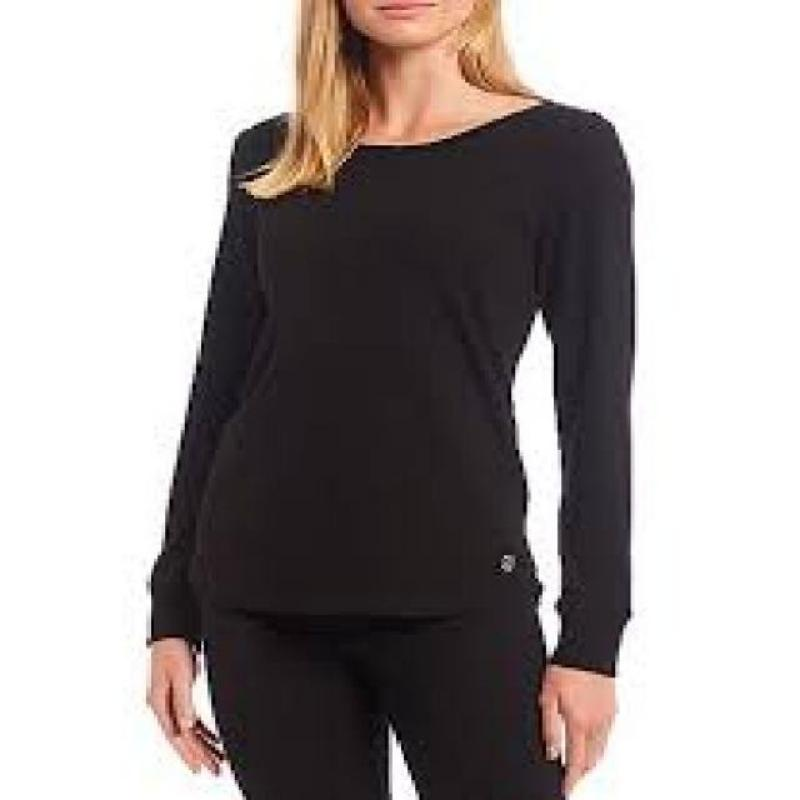long sleeve shirt: (145, 101, 639, 674)
trousers: (204, 599, 572, 800)
